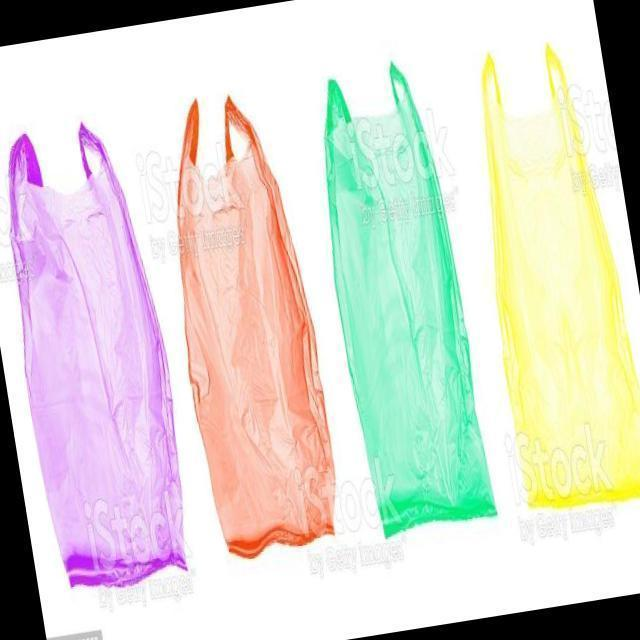Plastic_Bag: (144, 84, 352, 578)
